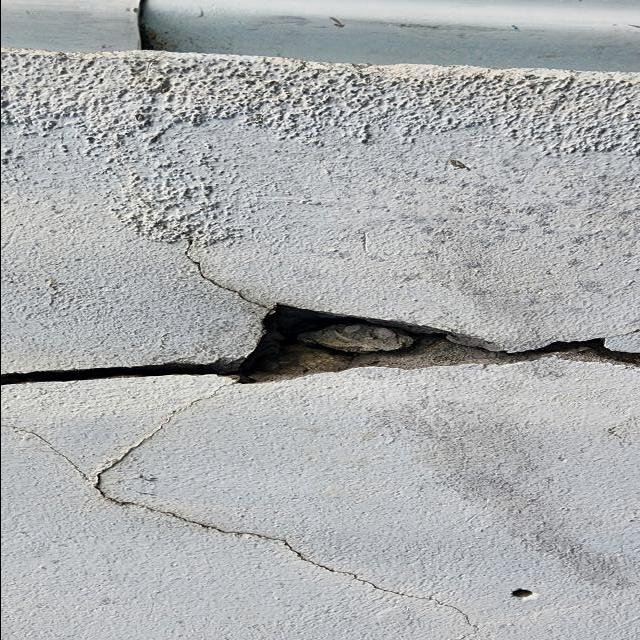SurfaceCrack: (2, 461, 640, 639)
